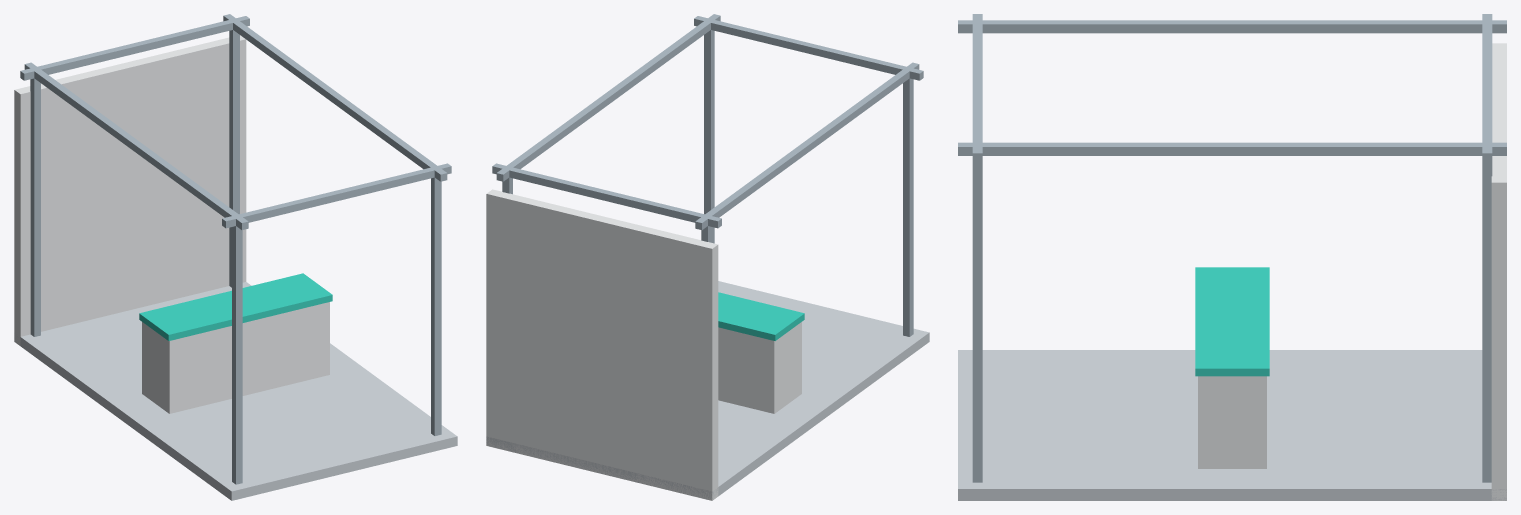
The picture shows the model from 3 angles, left to right: view 1: azimuth 30°, elevation 25°; view 2: azimuth 150°, elevation 25°; view 3: azimuth 270°, elevation 25°; orthographic projection. The views are drawn at different scales.
Parts seen in each view (by area): view 1: Exhibition Booth Concept; view 2: Exhibition Booth Concept; view 3: Exhibition Booth Concept.
Boxes of the visible parts, x1,y1,x2,y2 form: Exhibition Booth Concept: [14, 14, 457, 500]; Exhibition Booth Concept: [486, 14, 929, 500]; Exhibition Booth Concept: [958, 14, 1506, 500].
Bounding box in the file's own units: 3 × 3.49 × 5.
